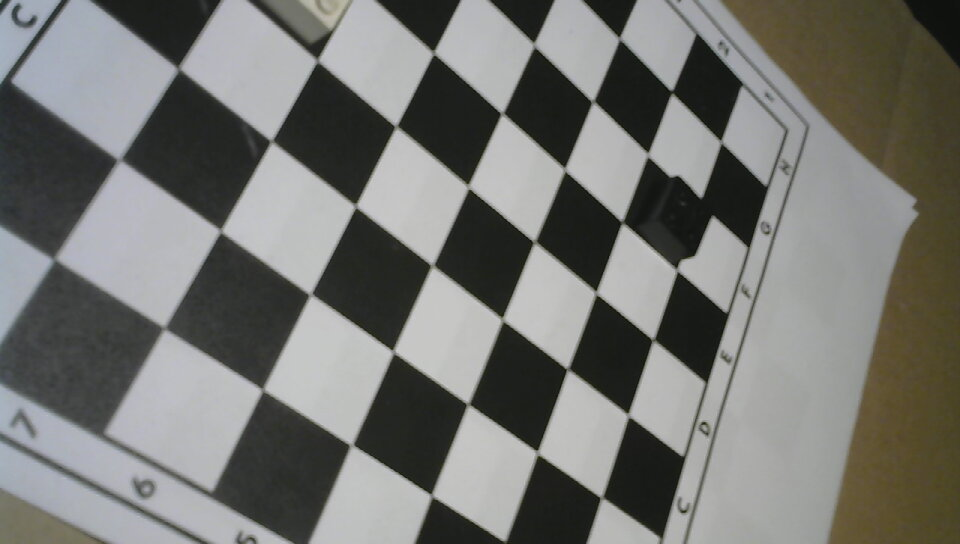bp: (631, 170, 716, 265)
